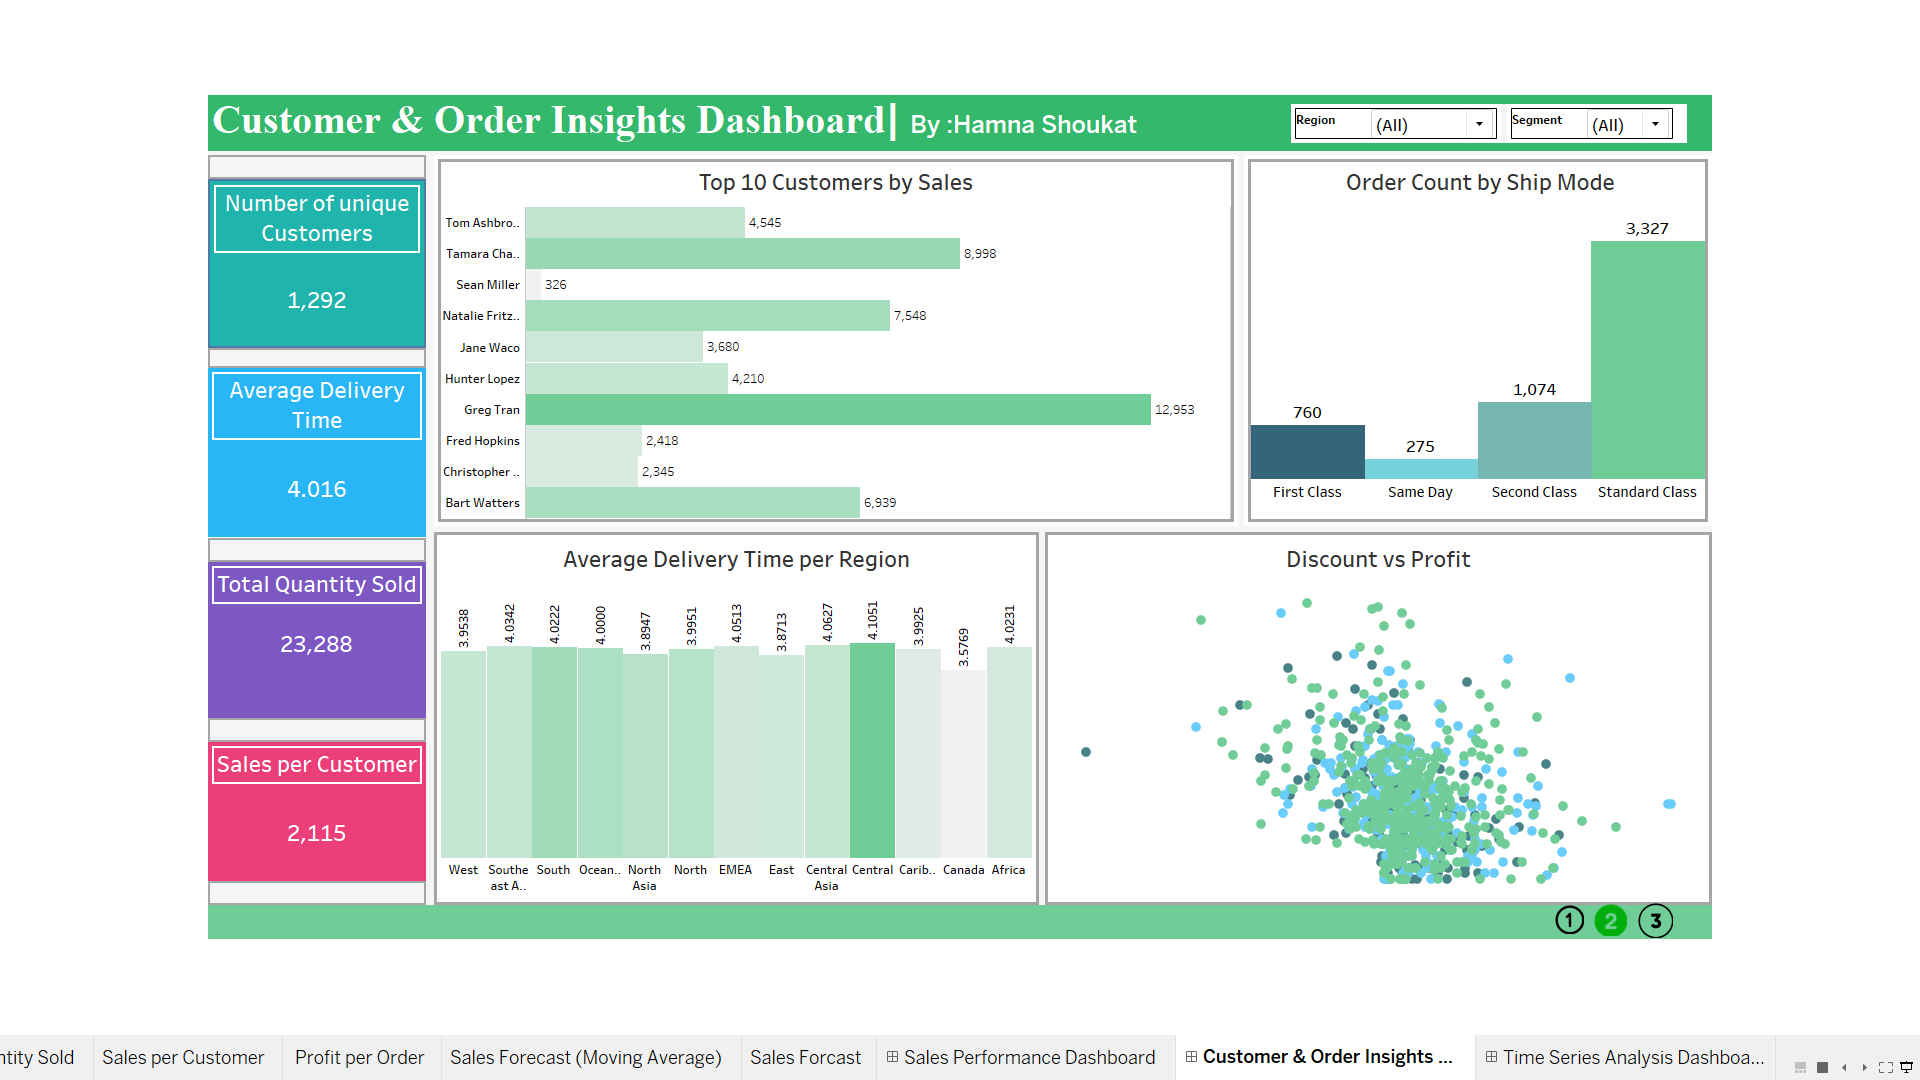

This screenshot's page, from the dashboard's own definition file:
{"tool":"tableau","page":{"name":"Customer & Order Insights Dashboard","canvas":[1000,1000],"units":"permille","ordinal":0},"visuals":[{"type":"text","box":[5.3,9.3,989.5,55.8]},{"type":"filter","title":"Discount vs Profit","param":"[federated.0add73p01l21gd1d8p2531djrabx].[none:Region:nk]","box":[717.8,19.8,138.2,44.8]},{"type":"blank","box":[855.9,19.8,4,44.8]},{"type":"filter","title":"Discount vs Profit","param":"[federated.0add73p01l21gd1d8p2531djrabx].[none:Segment:nk]","box":[859.9,19.8,111.8,44.8]},{"type":"blank","box":[5.3,74.4,989.5,4.7]},{"type":"blank","box":[5.3,79.1,143.4,27.9]},{"type":"blank","box":[148.7,79.1,5.3,872.5]},{"type":"worksheet","title":"Top 10 Customers by Sales","mark":"Bar","rows":["Customer Name"],"cols":["Sales"],"box":[153.9,79.1,529,431.4]},{"type":"blank","box":[682.9,79.1,4,431.4]},{"type":"worksheet","title":" Order Count by Ship Mode","mark":"Bar","rows":["Order ID"],"cols":["Ship Mode"],"box":[686.9,79.1,307.9,431.4]},{"type":"worksheet","title":"Number of unique Customers","mark":"Text","box":[6.6,109.3,140.8,192.4]},{"type":"blank","box":[5.3,304,143.4,23.3]},{"type":"worksheet","title":"Average Delivery Time","mark":"Text","box":[5.3,327.3,143.4,197]},{"type":"blank","box":[153.9,510.5,840.8,7]},{"type":"blank","box":[552,517.5,4,434.1]},{"type":"worksheet","title":"Average Delivery Time per Region","mark":"Bar","rows":["Calculation_115123297987317763"],"cols":["Region"],"box":[155.9,520.9,394.1,427.1]},{"type":"worksheet","title":"Discount vs Profit","mark":"Automatic","rows":["Discount"],"cols":["Profit"],"box":[557.9,520.9,434.9,427.1]},{"type":"blank","box":[5.3,524.3,143.4,27.9]},{"type":"worksheet","title":"Total Quantity Sold","mark":"Text","box":[5.3,552.2,143.4,140.7]},{"type":"blank","box":[5.3,733.6,143.4,27.9]},{"type":"worksheet","title":"Sales per Customer","mark":"Text","box":[5.3,761.5,143.4,162.1]},{"type":"blank","box":[5.3,923.6,143.4,27.9]},{"type":"dashboard-object","box":[944.7,948.7,25.7,40.3]},{"type":"dashboard-object","box":[915.8,949.9,25,37.9]},{"type":"dashboard-object","box":[890.1,951.2,22.4,34.2]}]}

Visuals, with their boxes on the dashboard's canvas, which has no fixed pixel size, in thousandths of its width and height (x1, y1, x2, y2). These are canvas units, not pixel positions in the 1920x1080 screenshot, which may show the page scaled, cropped or inside an application window:
text: {"left": 5, "top": 9, "right": 995, "bottom": 65}
"Discount vs Profit" filter: {"left": 718, "top": 20, "right": 856, "bottom": 65}
blank: {"left": 856, "top": 20, "right": 860, "bottom": 65}
"Discount vs Profit" filter: {"left": 860, "top": 20, "right": 972, "bottom": 65}
blank: {"left": 5, "top": 74, "right": 995, "bottom": 79}
blank: {"left": 5, "top": 79, "right": 149, "bottom": 107}
blank: {"left": 149, "top": 79, "right": 154, "bottom": 952}
"Top 10 Customers by Sales" worksheet (Bar marks): {"left": 154, "top": 79, "right": 683, "bottom": 510}
blank: {"left": 683, "top": 79, "right": 687, "bottom": 510}
" Order Count by Ship Mode" worksheet (Bar marks): {"left": 687, "top": 79, "right": 995, "bottom": 510}
"Number of unique Customers" worksheet (Text marks): {"left": 7, "top": 109, "right": 147, "bottom": 302}
blank: {"left": 5, "top": 304, "right": 149, "bottom": 327}
"Average Delivery Time" worksheet (Text marks): {"left": 5, "top": 327, "right": 149, "bottom": 524}
blank: {"left": 154, "top": 510, "right": 995, "bottom": 518}
blank: {"left": 552, "top": 518, "right": 556, "bottom": 952}
"Average Delivery Time per Region" worksheet (Bar marks): {"left": 156, "top": 521, "right": 550, "bottom": 948}
"Discount vs Profit" worksheet: {"left": 558, "top": 521, "right": 993, "bottom": 948}
blank: {"left": 5, "top": 524, "right": 149, "bottom": 552}
"Total Quantity Sold" worksheet (Text marks): {"left": 5, "top": 552, "right": 149, "bottom": 693}
blank: {"left": 5, "top": 734, "right": 149, "bottom": 762}
"Sales per Customer" worksheet (Text marks): {"left": 5, "top": 762, "right": 149, "bottom": 924}
blank: {"left": 5, "top": 924, "right": 149, "bottom": 952}
dashboard-object: {"left": 945, "top": 949, "right": 970, "bottom": 989}
dashboard-object: {"left": 916, "top": 950, "right": 941, "bottom": 988}
dashboard-object: {"left": 890, "top": 951, "right": 912, "bottom": 985}
